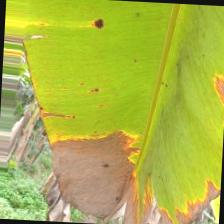cordana: (11, 0, 224, 224)
